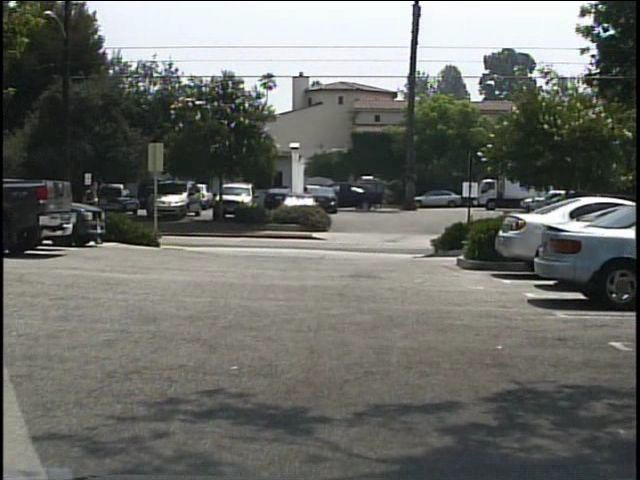person: (81, 180, 108, 246)
